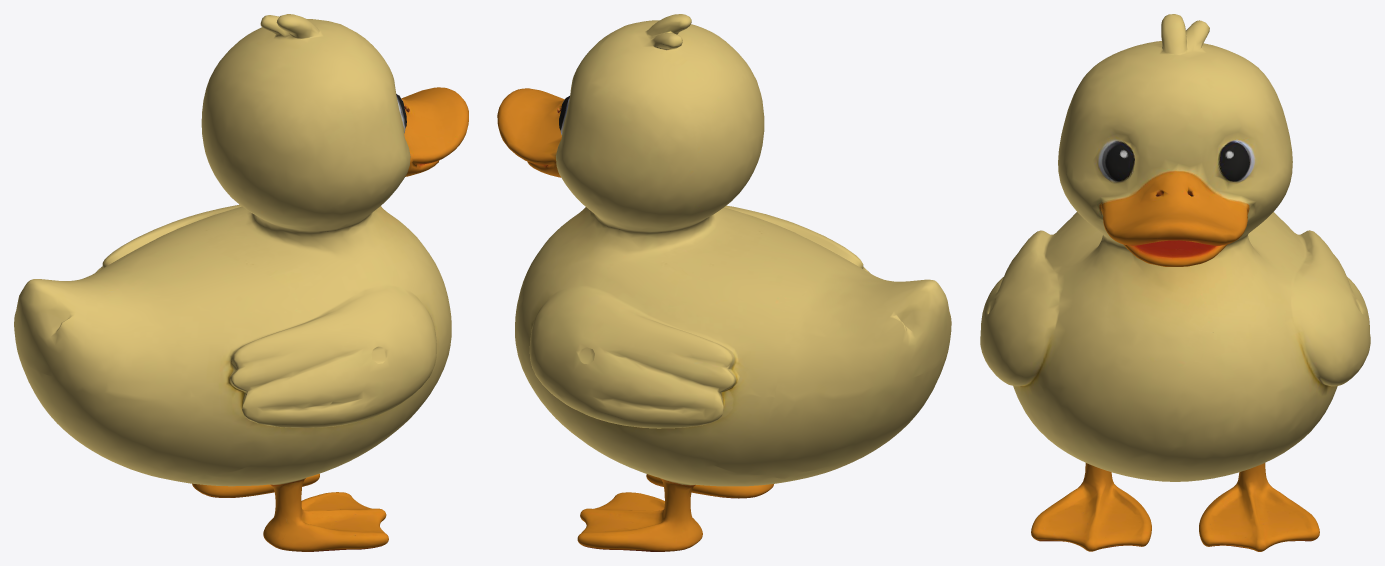
Rendered from Model_Duck.fbx.
3 renders of one model, left to right at view 1: azimuth 30°, elevation 25°; view 2: azimuth 150°, elevation 25°; view 3: azimuth 270°, elevation 25°, orthographic. The views are drawn at different scales.
Visible parts, largest first — view 1: obj1; view 2: obj1; view 3: obj1.
Boxes of the visible parts, left/top/right/bottom form: obj1: left=14, top=14, right=468, bottom=551; obj1: left=497, top=14, right=951, bottom=551; obj1: left=980, top=14, right=1370, bottom=551.
Size of the model in its own units: 93.24 by 100 by 69.34.
Materials: 1 (1 with a texture image).
